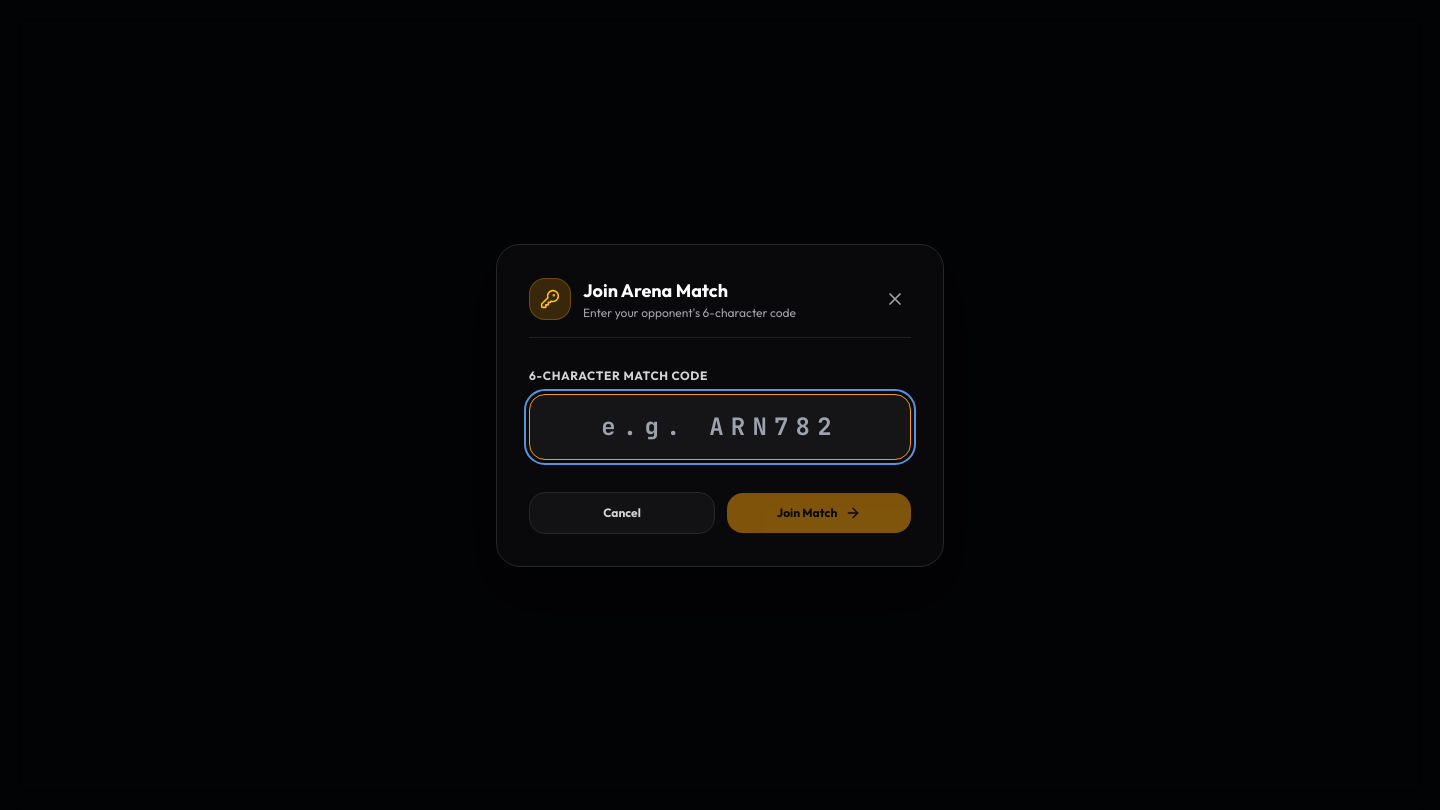
it: Frontend Arena Components & UX › JoinMatchModal › automatically uppercases matchCode and enables join when 6 characters entered
The width and height of the screenshot is (1440, 810).
In the field with placeholder "e.g. ARN782": [720, 426] box [529, 394, 911, 460], type "arn782"
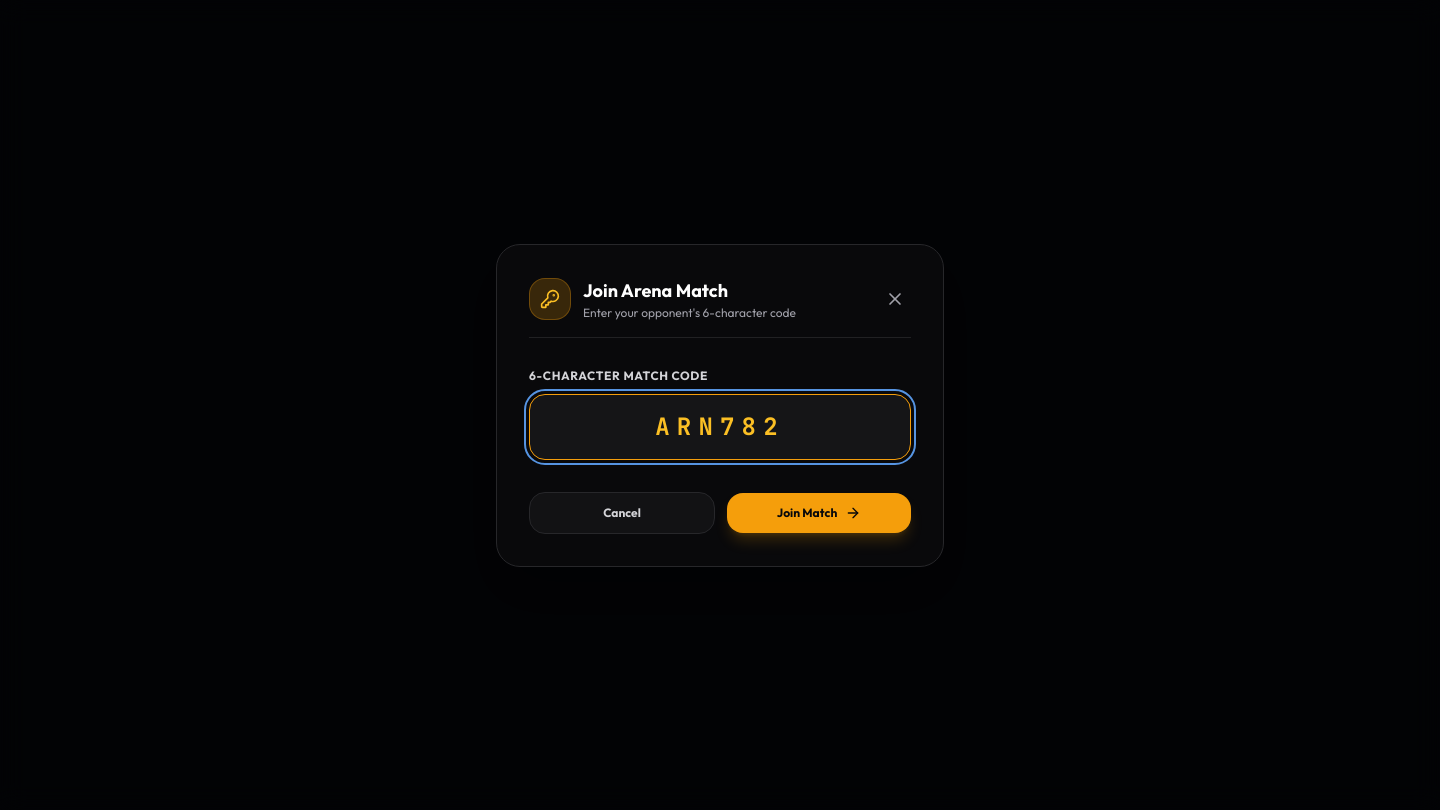
Check: the button "Join Match" is enabled, box [727, 492, 911, 532]
